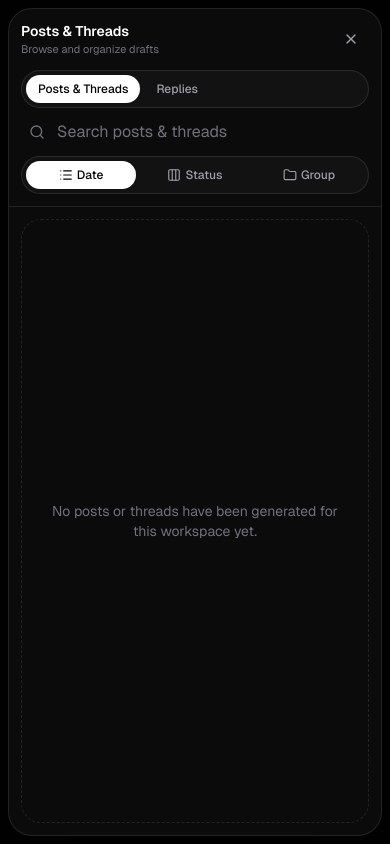
Test case: switching to the Replies tab fetches reply-only content and updates the search placeholder
Expected: the field with placeholder "Search posts & threads" is shown, [57,120,361,144]
Click the button "Replies" at (177, 88), box [144,74,210,102]
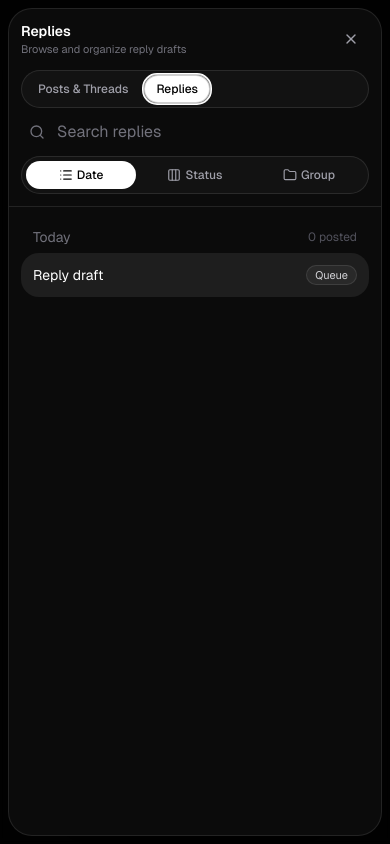
Expected: the field with placeholder "Search replies" is shown, [57,120,361,144]
